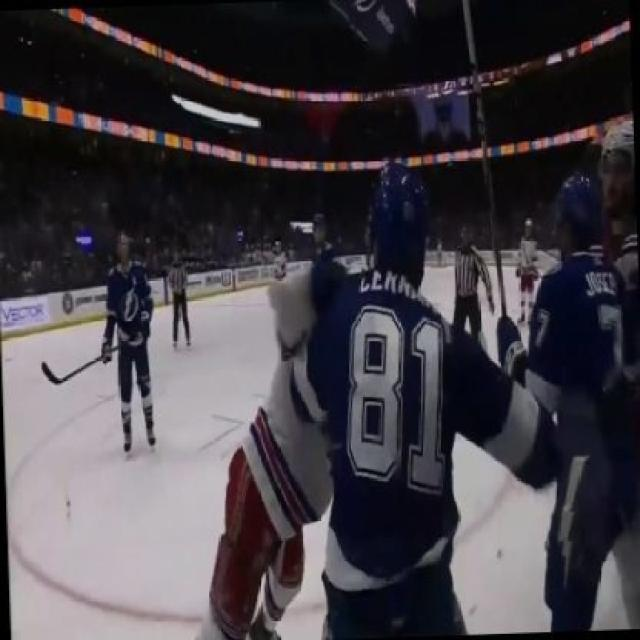fight: (202, 162, 638, 638)
non-fight: (86, 226, 169, 460)
